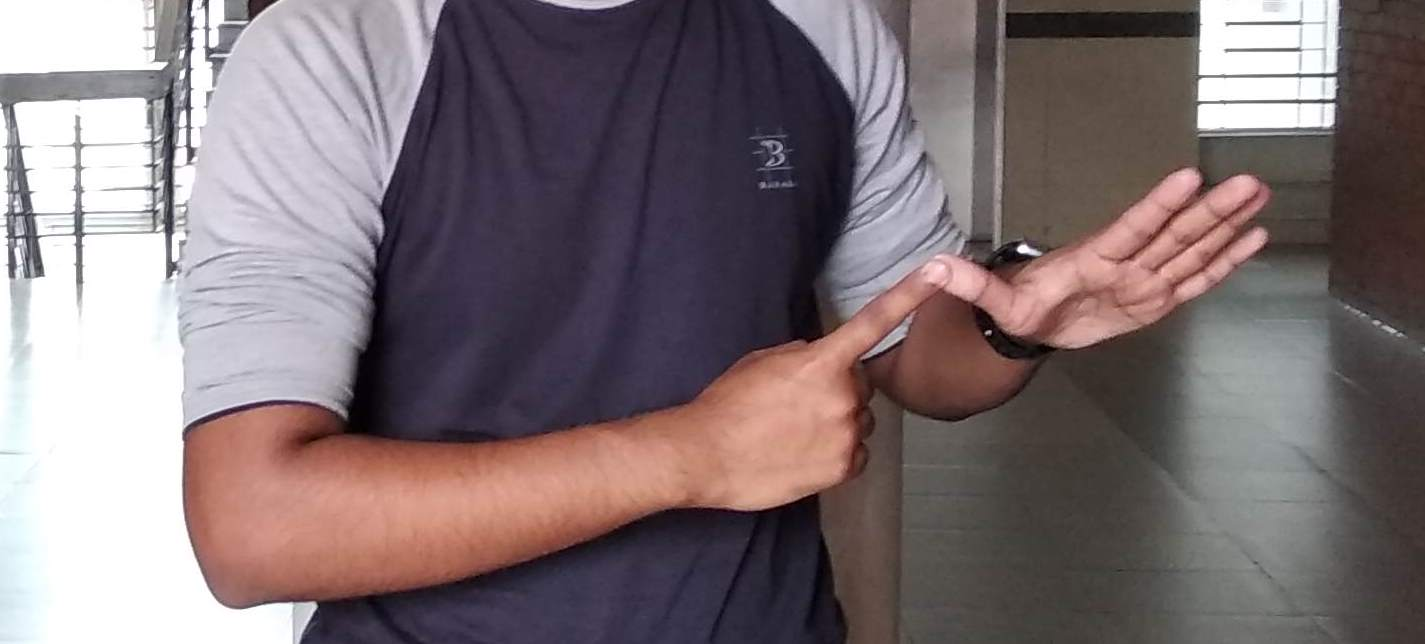a: (787, 173, 1272, 506)
